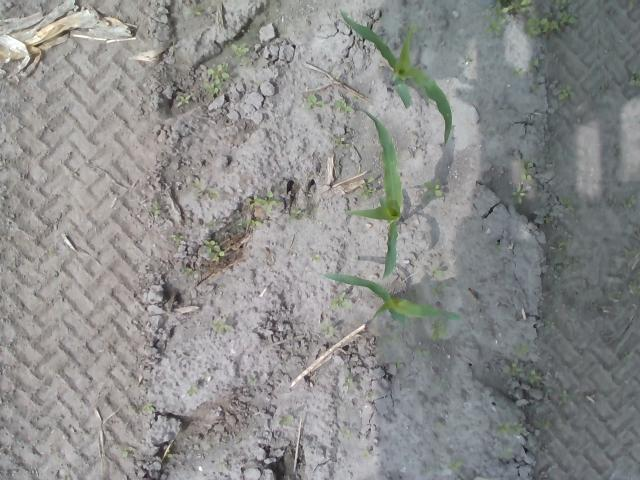Maize: (338, 8, 452, 146), (346, 107, 408, 278), (319, 273, 458, 330)
Weeds: (551, 236, 585, 272), (526, 14, 578, 37), (302, 94, 354, 113), (203, 61, 230, 96), (486, 0, 510, 36), (512, 58, 541, 80), (432, 267, 453, 297), (253, 190, 280, 213), (203, 240, 226, 262), (430, 317, 450, 341), (225, 40, 250, 56), (558, 195, 576, 217), (358, 176, 375, 198), (519, 160, 535, 183), (497, 421, 526, 433), (211, 320, 235, 334), (422, 180, 443, 196), (510, 0, 532, 15), (629, 269, 640, 297), (558, 83, 574, 101), (332, 294, 350, 310), (504, 360, 522, 376), (513, 184, 527, 204), (512, 340, 528, 357), (528, 367, 543, 385), (446, 458, 464, 472), (276, 415, 294, 428), (536, 416, 551, 431), (319, 323, 335, 337), (552, 0, 568, 14), (622, 350, 637, 364), (191, 176, 204, 191), (414, 346, 430, 358), (608, 290, 623, 302), (625, 193, 637, 208), (623, 246, 640, 256), (177, 94, 190, 107), (148, 203, 160, 217), (498, 448, 512, 460), (629, 70, 640, 84), (559, 392, 574, 402), (543, 318, 558, 328), (290, 206, 302, 218), (168, 234, 182, 243), (190, 7, 201, 18), (143, 404, 155, 414), (246, 375, 258, 385), (118, 446, 128, 457), (250, 218, 262, 227), (310, 254, 320, 264), (543, 215, 554, 224), (394, 361, 401, 368)
